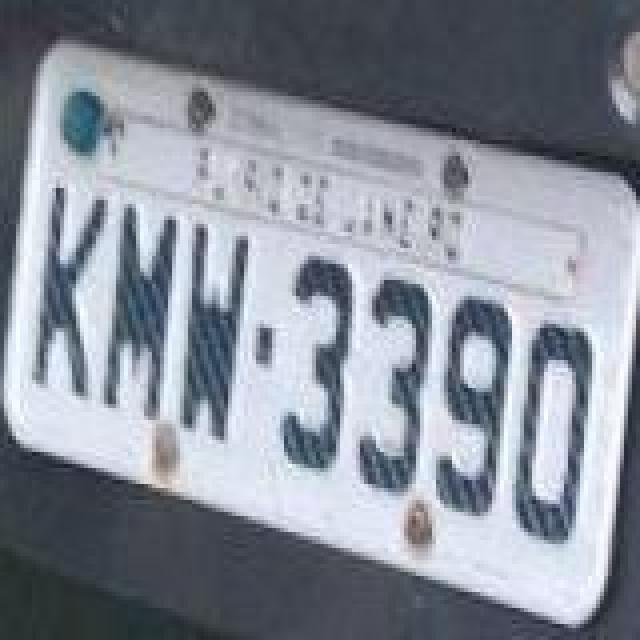3: (352, 278, 432, 498), (278, 254, 354, 474)
9: (432, 294, 512, 522)
K: (32, 188, 112, 404)
M: (102, 202, 178, 422)
O: (510, 318, 594, 546)
W: (180, 218, 252, 438)
